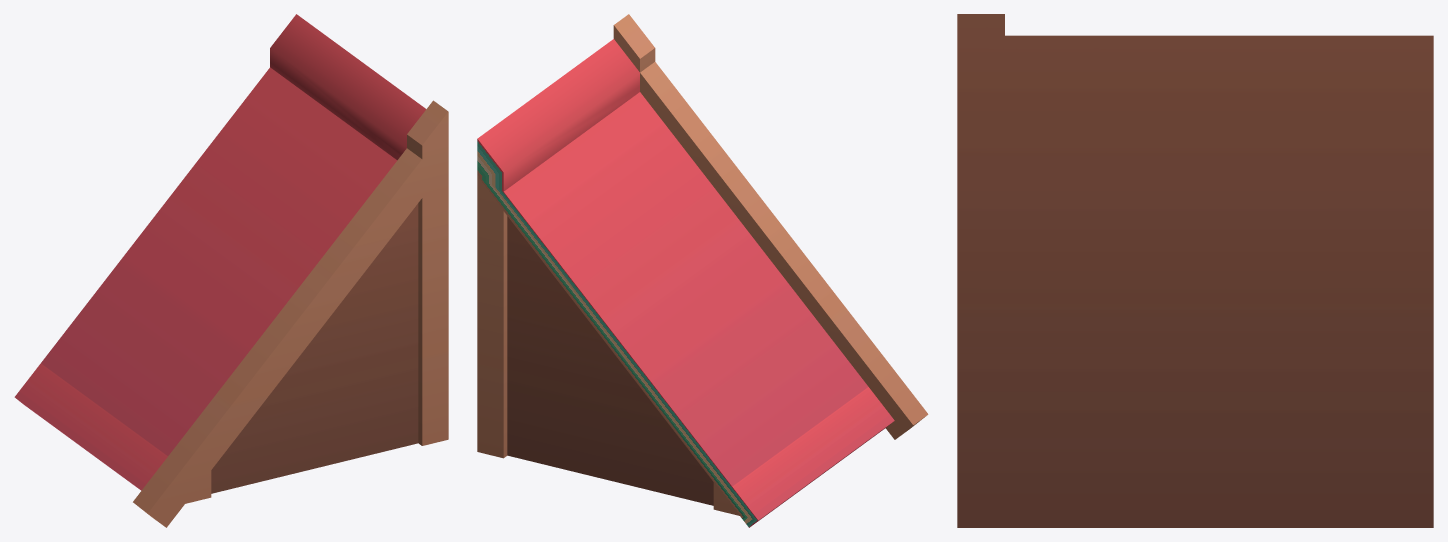
Rendered from roof-high-right.glb.
3 views of the same model, side by side, from view 1: azimuth 30°, elevation 25°; view 2: azimuth 150°, elevation 25°; view 3: azimuth 270°, elevation 25° (orthographic). The views are drawn at different scales.
Parts seen in each view (by area): view 1: roof-high-right; view 2: roof-high-right; view 3: roof-high-right.
Part boxes in pixels (x1,y1,x2,y2): roof-high-right: (14, 14, 448, 527); roof-high-right: (477, 14, 928, 527); roof-high-right: (957, 14, 1433, 527).
Bounding box in the file's own units: 1.14 × 1.26 × 1.
1 material, 1 textured.
